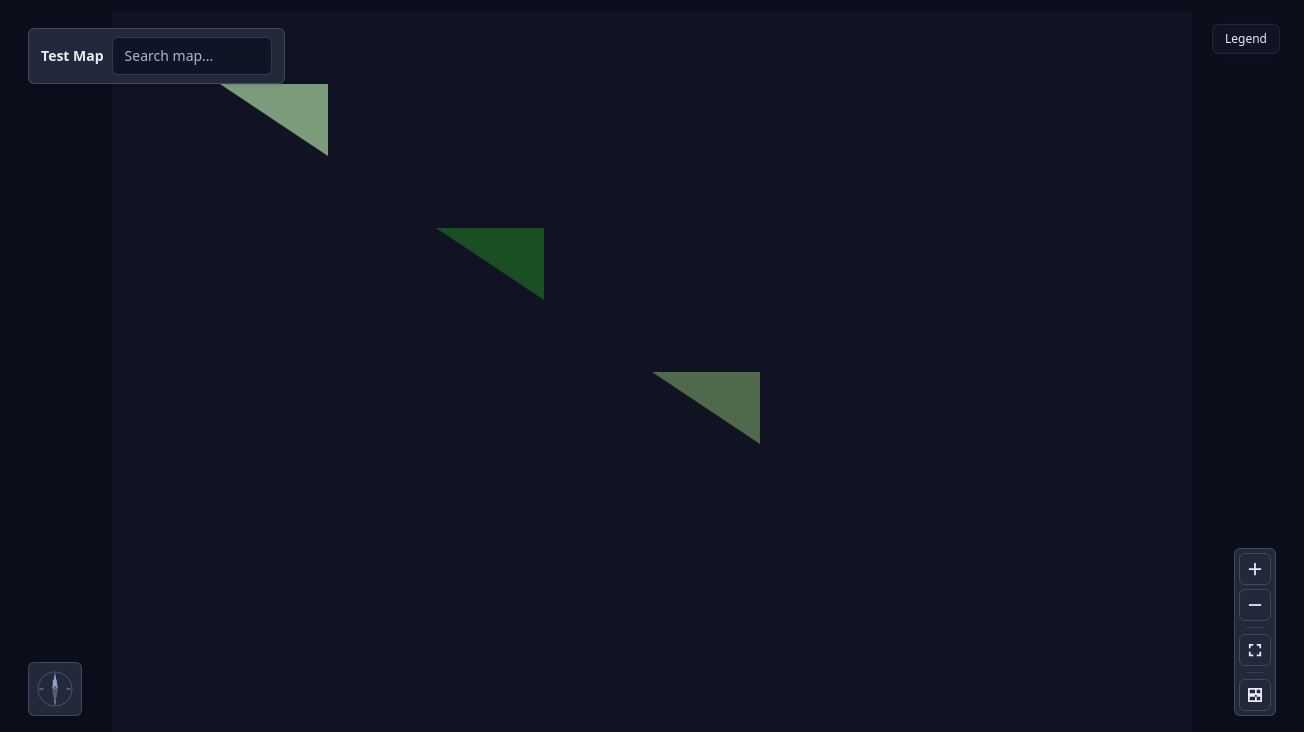
MapEditor share mode (GEOSHARE-01 / 44-03) › Test 1: share legend renders terrain types in sortOrder for each layer
// Click to open the legend
Click the button with aria-label "toggle legend". click: (1246, 39)
box: [1212, 24, 1280, 54]
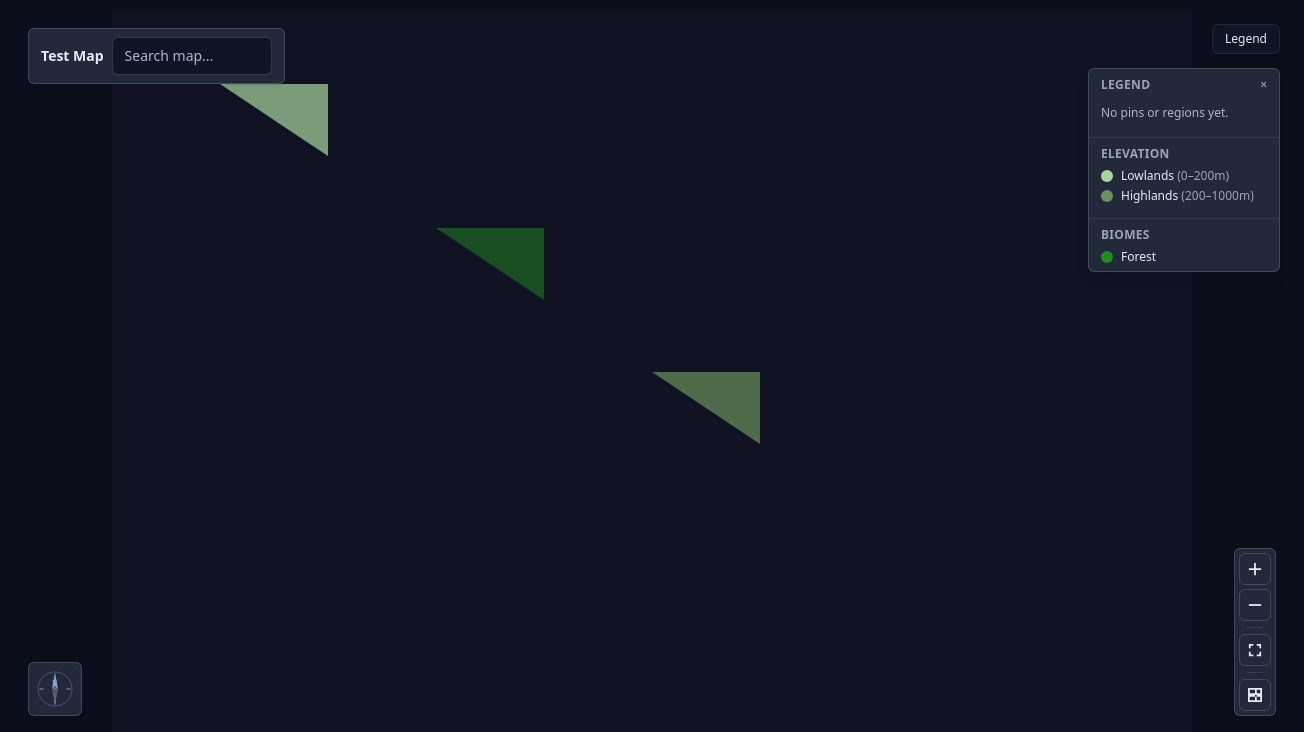
Result: the text "Elevation" is shown at [1101, 145, 1170, 162]
Result: the text "Lowlands" is shown at [1121, 167, 1174, 184]
Result: the text "Highlands" is shown at [1121, 187, 1178, 204]
